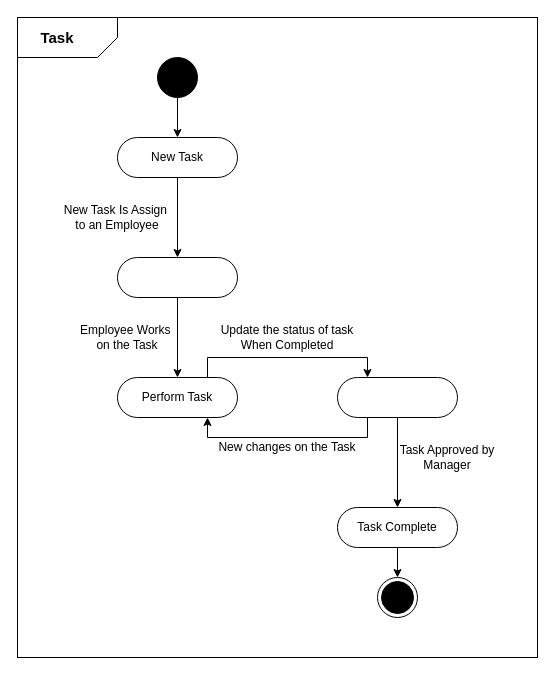
This 555x675 diagram has some shape labels left out. Here are the shapes that lost their labels. From the top down, the box of each, then its label:
(116, 256, 238, 298): Assign Task
(336, 376, 458, 418): Update Status of Task
